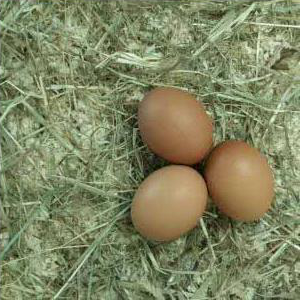egg: (130, 165, 208, 243), (137, 86, 214, 165), (204, 139, 275, 222)
